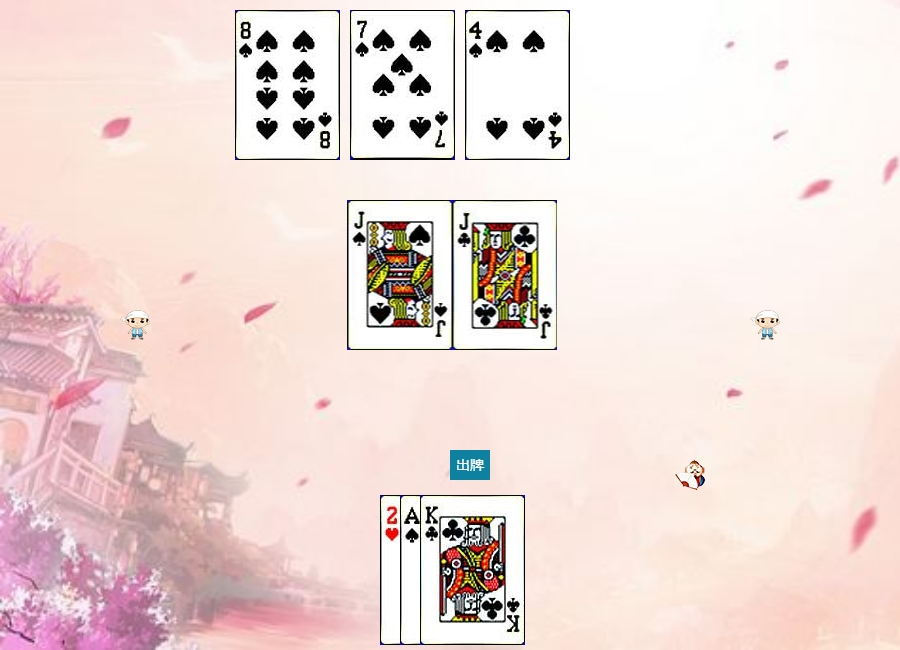11~2: (453, 200, 558, 350)
11~4: (348, 200, 453, 350)
13~2: (420, 495, 525, 645)
14~4: (400, 495, 505, 645)
15~3: (380, 495, 485, 645)
4~4: (465, 10, 570, 160)
7~4: (350, 10, 455, 160)
8~4: (235, 10, 340, 160)
